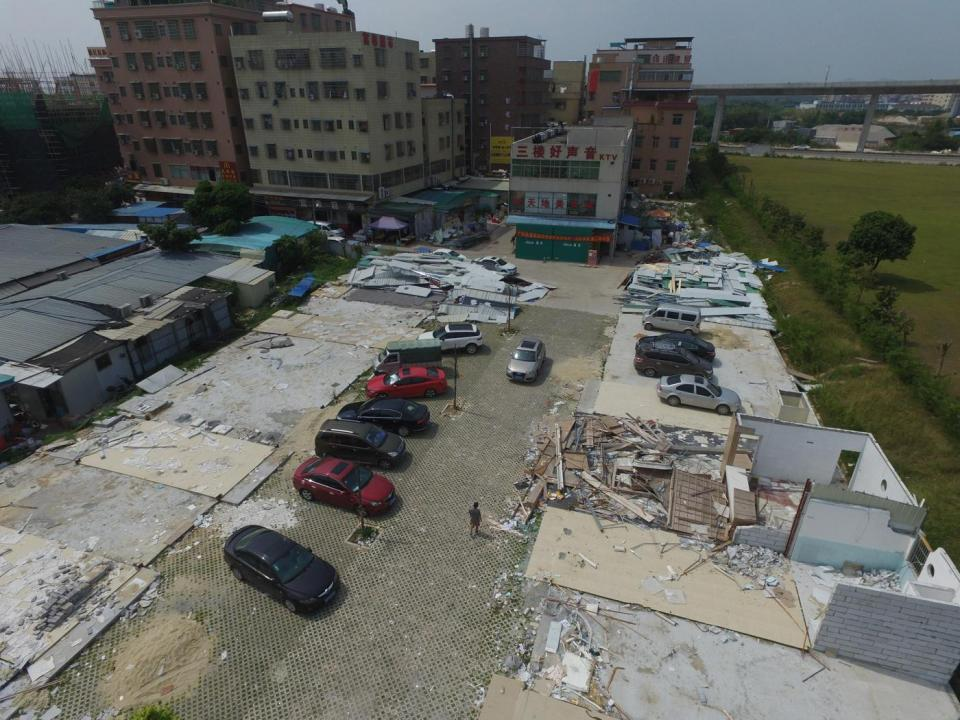car: (219, 524, 345, 614), (294, 453, 397, 519), (313, 419, 407, 473), (336, 398, 431, 437), (659, 374, 745, 416), (633, 341, 716, 380), (366, 368, 448, 400), (640, 331, 718, 363), (505, 339, 548, 389), (418, 324, 484, 354), (473, 256, 517, 276), (427, 246, 467, 262), (792, 145, 811, 150)
truck: (366, 340, 445, 375)
van: (643, 302, 704, 335), (306, 217, 346, 240)
